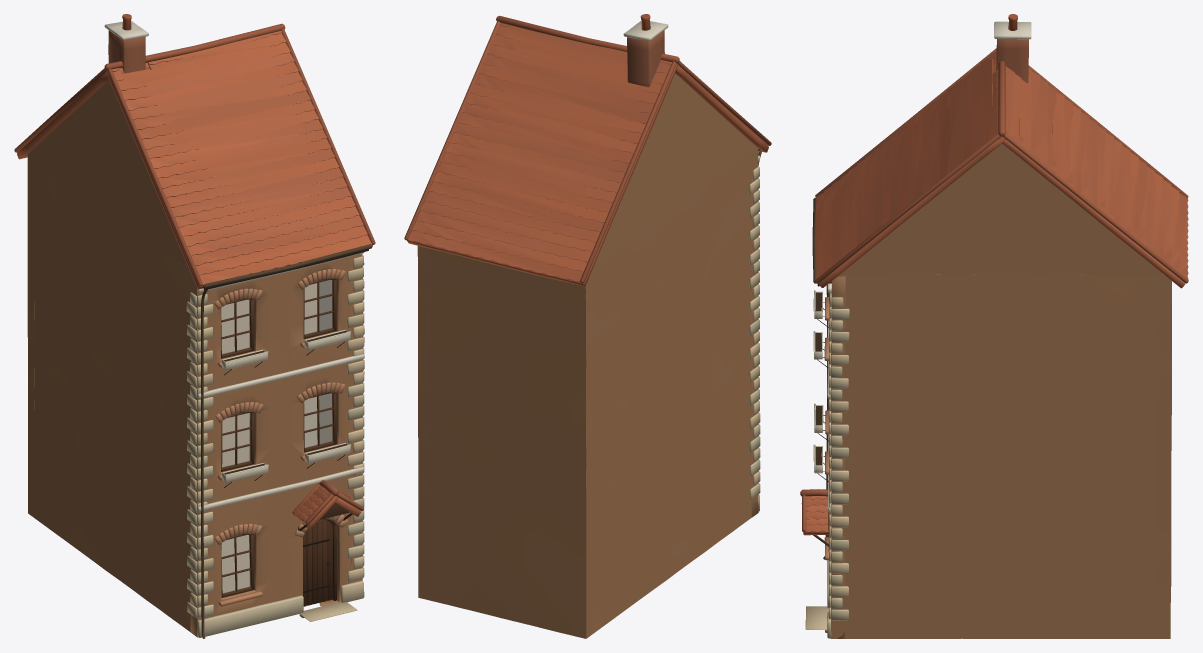
File: GateStreet_BehindOuter4.glb
The picture shows the model from 3 angles, left to right: view 1: azimuth 30°, elevation 25°; view 2: azimuth 150°, elevation 25°; view 3: azimuth 270°, elevation 25°; orthographic projection.
Visible parts, largest first — view 1: Sammel Ziegel, Sammel Stein, Sammel Holz, Sammel Putz innen, Glas, Sammel Putz, Sammel Metall, Sammel Lack; view 2: Sammel Ziegel, Sammel Stein, Sammel Putz; view 3: Sammel Ziegel, Sammel Stein, Sammel Putz, Sammel Lack, Sammel Metall.
Part boxes in pixels (x1,y1,x2,y2): Sammel Ziegel: (27,30,362,637); Sammel Stein: (14,23,375,637); Sammel Holz: (203,249,368,606); Sammel Putz innen: (221,280,331,592); Glas: (221,280,332,593); Sammel Putz: (104,14,364,511); Sammel Metall: (201,244,372,638); Sammel Lack: (222,329,350,482); Sammel Ziegel: (417,30,758,638); Sammel Stein: (404,15,771,511); Sammel Putz: (623,14,759,160); Sammel Ziegel: (824,39,1171,638); Sammel Stein: (800,48,1188,638); Sammel Putz: (815,14,1031,511); Sammel Lack: (813,290,823,473); Sammel Metall: (812,197,828,559).
Bounding box in the file's own units: 4.88 × 14.43 × 9.14.
